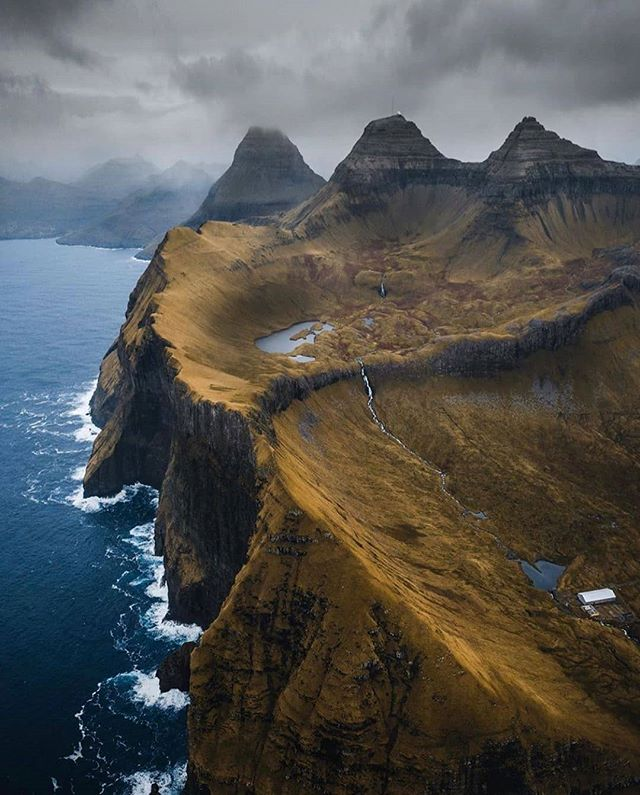mountain: (201, 95, 317, 218), (335, 82, 451, 205), (485, 76, 601, 199)
sea: (1, 235, 184, 774)
sky: (1, 1, 640, 126)
